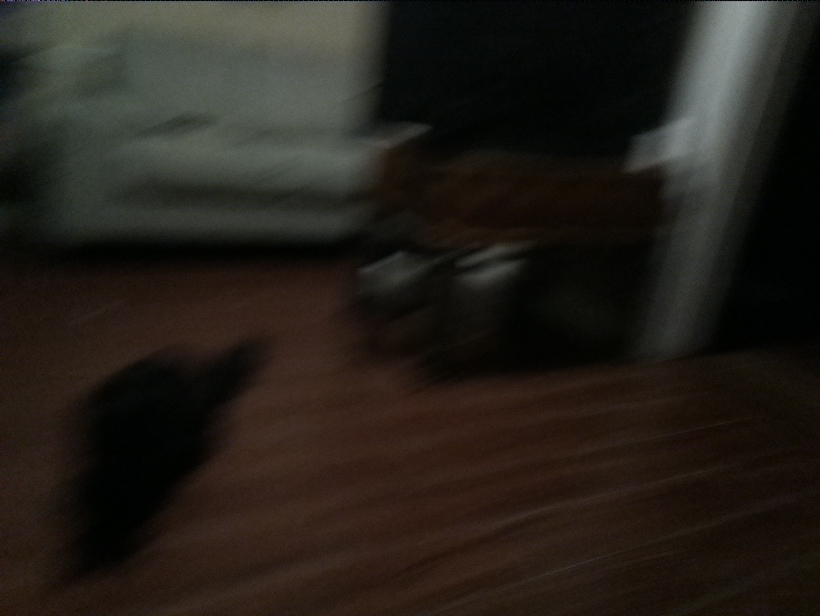cat: (53, 334, 307, 577)
